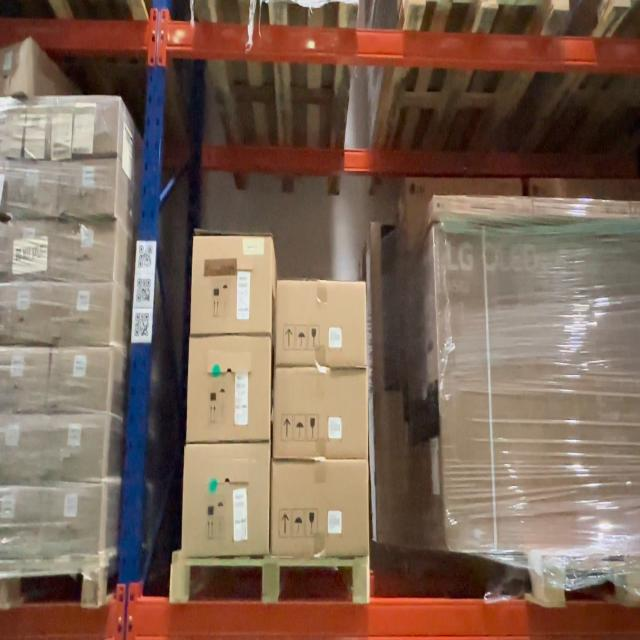box: (183, 448, 270, 556), (275, 463, 367, 549), (189, 339, 269, 436), (195, 233, 270, 334), (279, 280, 364, 368), (276, 373, 366, 451)
